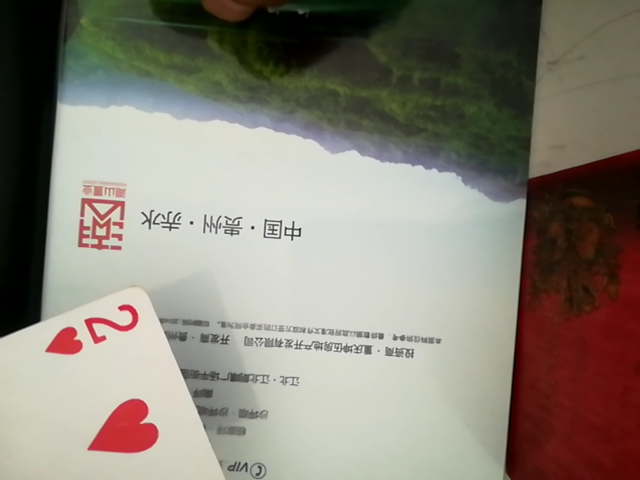hx 2: (1, 293, 232, 479)
